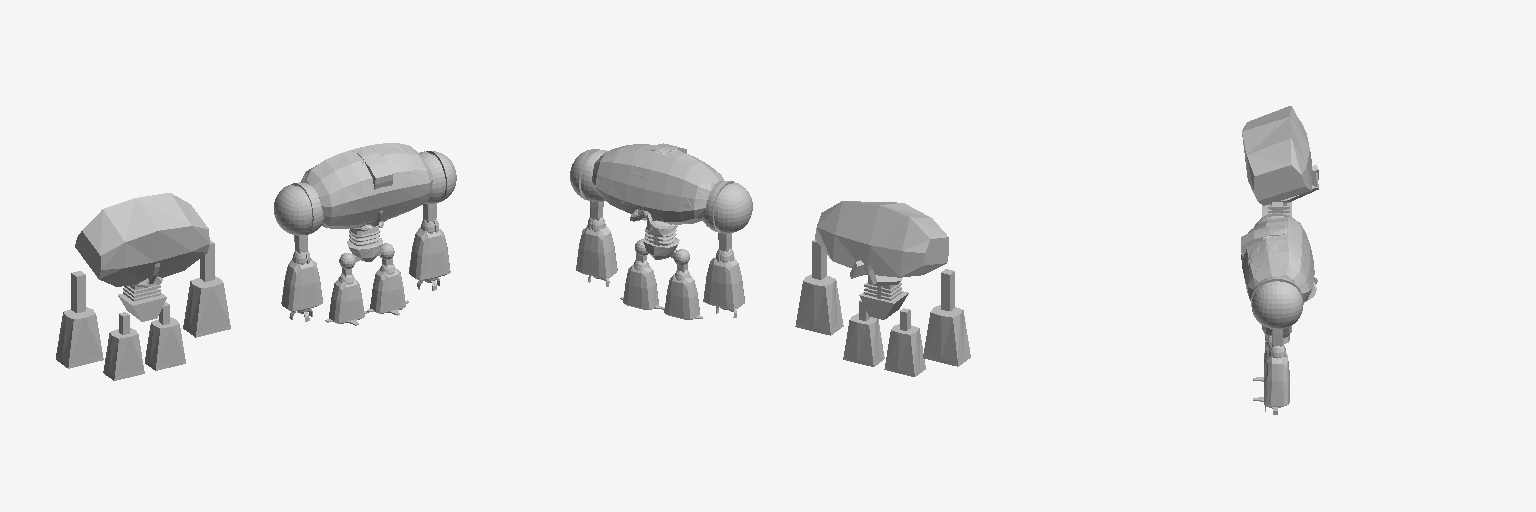
The model's file is Blocked Robot Updated.obj.
The picture shows the model from 3 angles: view 1: azimuth 30°, elevation 25°; view 2: azimuth 150°, elevation 25°; view 3: azimuth 270°, elevation 25°; orthographic projection.
Parts seen in each view (by area): view 1: Blocked_Robot:Blocked_Robot:pCube65, Blocked_Robot:pCube2 Blocked_Robot:Blocked_Robot4:pCube2SmoothPr, Blocked_Robot:pCube27 Blocked_Robot:Blocked_Robot3:pCube27Smooth, Blocked_Robot:Blocked_Robot3:pCube27SmoothProxyGroup Blocked_Rob, Blocked_Robot:pCube41 Blocked_Robot:Blocked_Robot5:pCube41Smooth, Blocked_Robot:Blocked_Robot5:pCube41SmoothProxyGroup Blocked_Rob, Blocked_Robot:polySurface1, Blocked_Robot:pCube4 Blocked_Robot:Blocked_Robot10:pCube4SmoothP, Blocked_Robot:pCube11 Blocked_Robot:Blocked_Robot1:pCube11Smooth; view 2: Blocked_Robot:Blocked_Robot:pCube65, Blocked_Robot:pCube2 Blocked_Robot:Blocked_Robot4:pCube2SmoothPr, Blocked_Robot:pCube27 Blocked_Robot:Blocked_Robot3:pCube27Smooth, Blocked_Robot:Blocked_Robot3:pCube27SmoothProxyGroup Blocked_Rob, Blocked_Robot:Blocked_Robot5:pCube41SmoothProxyGroup Blocked_Rob, Blocked_Robot:pCube41 Blocked_Robot:Blocked_Robot5:pCube41Smooth, Blocked_Robot:pCube4 Blocked_Robot:Blocked_Robot10:pCube4SmoothP, Blocked_Robot:polySurface1, Blocked_Robot:pCube11 Blocked_Robot:Blocked_Robot1:pCube11Smooth; view 3: Blocked_Robot:Blocked_Robot:pCube65, Blocked_Robot:pCube2 Blocked_Robot:Blocked_Robot4:pCube2SmoothPr, Blocked_Robot:polySurface1.
Boxes of the visible parts, x1=… form: Blocked_Robot:Blocked_Robot:pCube65: x1=274, y1=143, x2=456, y2=325; Blocked_Robot:pCube2 Blocked_Robot:Blocked_Robot4:pCube2SmoothPr: x1=75, y1=193, x2=209, y2=286; Blocked_Robot:pCube27 Blocked_Robot:Blocked_Robot3:pCube27Smooth: x1=183, y1=276, x2=230, y2=337; Blocked_Robot:Blocked_Robot3:pCube27SmoothProxyGroup Blocked_Rob: x1=56, y1=307, x2=103, y2=368; Blocked_Robot:pCube41 Blocked_Robot:Blocked_Robot5:pCube41Smooth: x1=145, y1=317, x2=185, y2=370; Blocked_Robot:Blocked_Robot5:pCube41SmoothProxyGroup Blocked_Rob: x1=103, y1=328, x2=144, y2=380; Blocked_Robot:polySurface1: x1=305, y1=144, x2=422, y2=229; Blocked_Robot:pCube4 Blocked_Robot:Blocked_Robot10:pCube4SmoothP: x1=118, y1=292, x2=166, y2=321; Blocked_Robot:pCube11 Blocked_Robot:Blocked_Robot1:pCube11Smooth: x1=71, y1=271, x2=85, y2=312; Blocked_Robot:Blocked_Robot:pCube65: x1=570, y1=143, x2=752, y2=319; Blocked_Robot:pCube2 Blocked_Robot:Blocked_Robot4:pCube2SmoothPr: x1=815, y1=201, x2=948, y2=277; Blocked_Robot:pCube27 Blocked_Robot:Blocked_Robot3:pCube27Smooth: x1=795, y1=274, x2=843, y2=335; Blocked_Robot:Blocked_Robot3:pCube27SmoothProxyGroup Blocked_Rob: x1=923, y1=305, x2=970, y2=366; Blocked_Robot:Blocked_Robot5:pCube41SmoothProxyGroup Blocked_Rob: x1=884, y1=324, x2=925, y2=376; Blocked_Robot:pCube41 Blocked_Robot:Blocked_Robot5:pCube41Smooth: x1=843, y1=313, x2=884, y2=366; Blocked_Robot:pCube4 Blocked_Robot:Blocked_Robot10:pCube4SmoothP: x1=859, y1=291, x2=908, y2=319; Blocked_Robot:polySurface1: x1=598, y1=144, x2=708, y2=224; Blocked_Robot:pCube11 Blocked_Robot:Blocked_Robot1:pCube11Smooth: x1=941, y1=269, x2=954, y2=310; Blocked_Robot:Blocked_Robot:pCube65: x1=1241, y1=213, x2=1317, y2=414; Blocked_Robot:pCube2 Blocked_Robot:Blocked_Robot4:pCube2SmoothPr: x1=1242, y1=106, x2=1311, y2=205; Blocked_Robot:polySurface1: x1=1242, y1=220, x2=1314, y2=291.
Bounding box in the file's own units: 17.9 × 7.24 × 3.12.